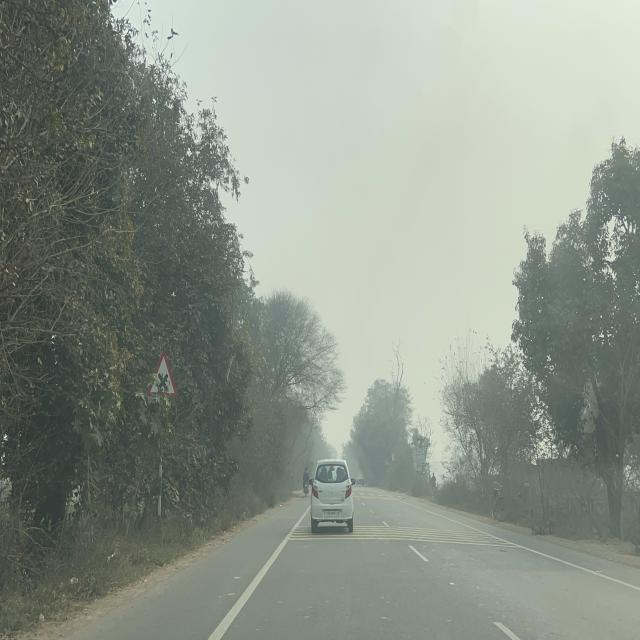CROSS_ROAD: (147, 349, 178, 399)
